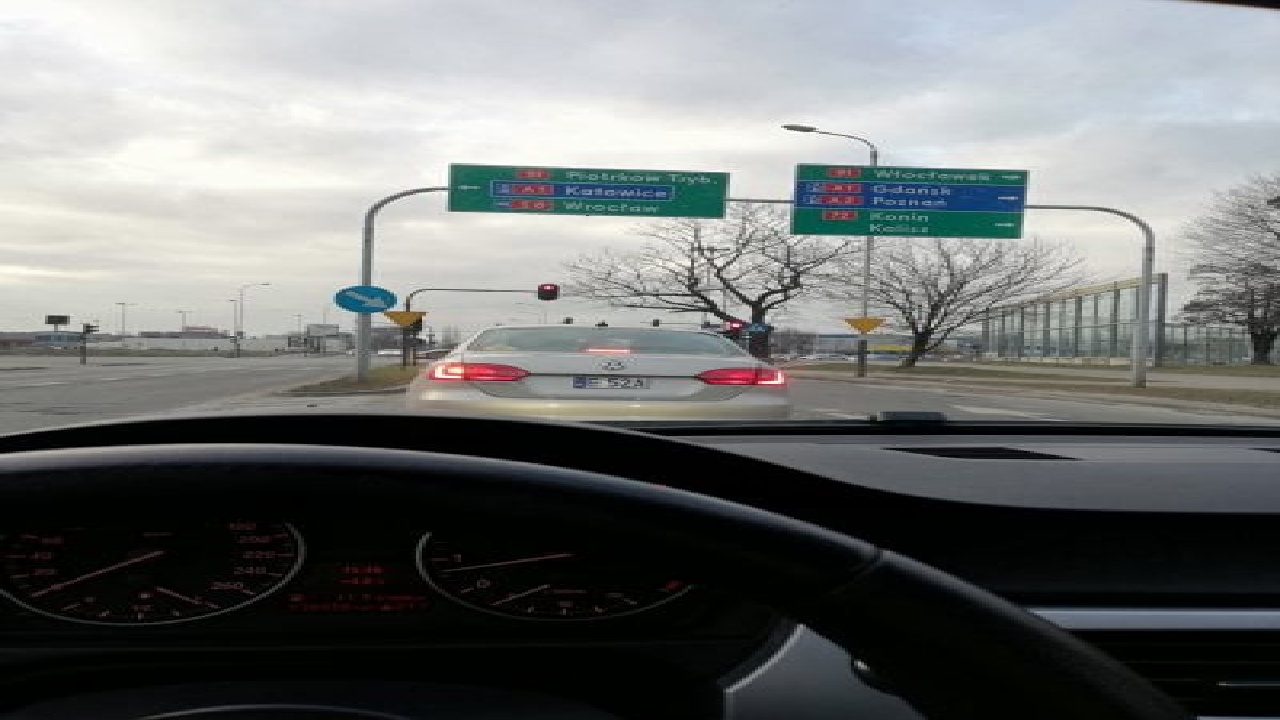C9: (335, 285, 396, 315)
